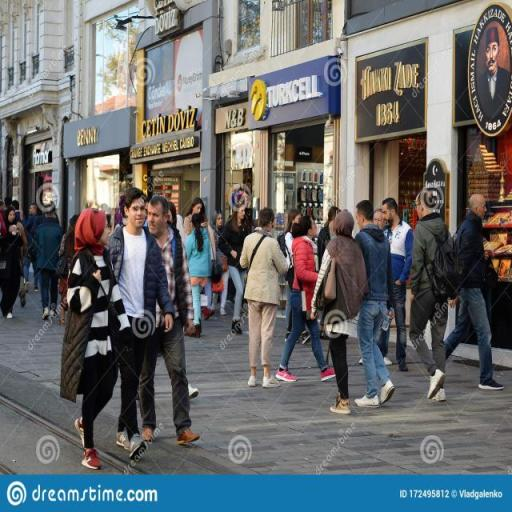person: (108, 187, 174, 460), (67, 210, 134, 471), (140, 193, 204, 444), (444, 192, 506, 392), (313, 207, 370, 419), (280, 216, 337, 381), (356, 199, 400, 409), (412, 192, 453, 403), (241, 209, 287, 388), (383, 199, 412, 373), (220, 205, 253, 336), (280, 209, 310, 343), (184, 214, 214, 340), (40, 195, 64, 321), (3, 209, 25, 323), (211, 212, 229, 319), (25, 202, 43, 295)
